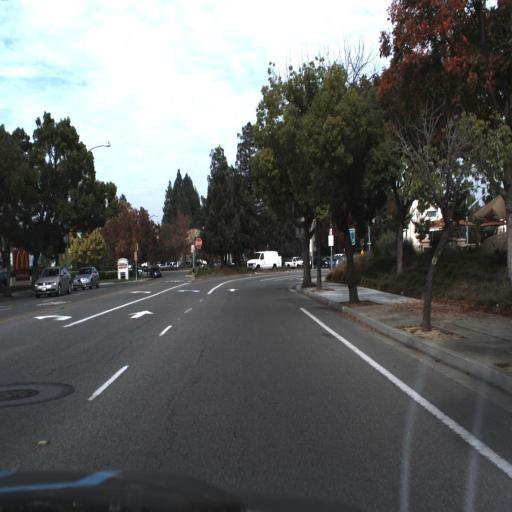car: (28, 260, 76, 302), (30, 262, 72, 302), (242, 245, 280, 274), (70, 260, 100, 294), (325, 251, 348, 271), (145, 261, 162, 282)
